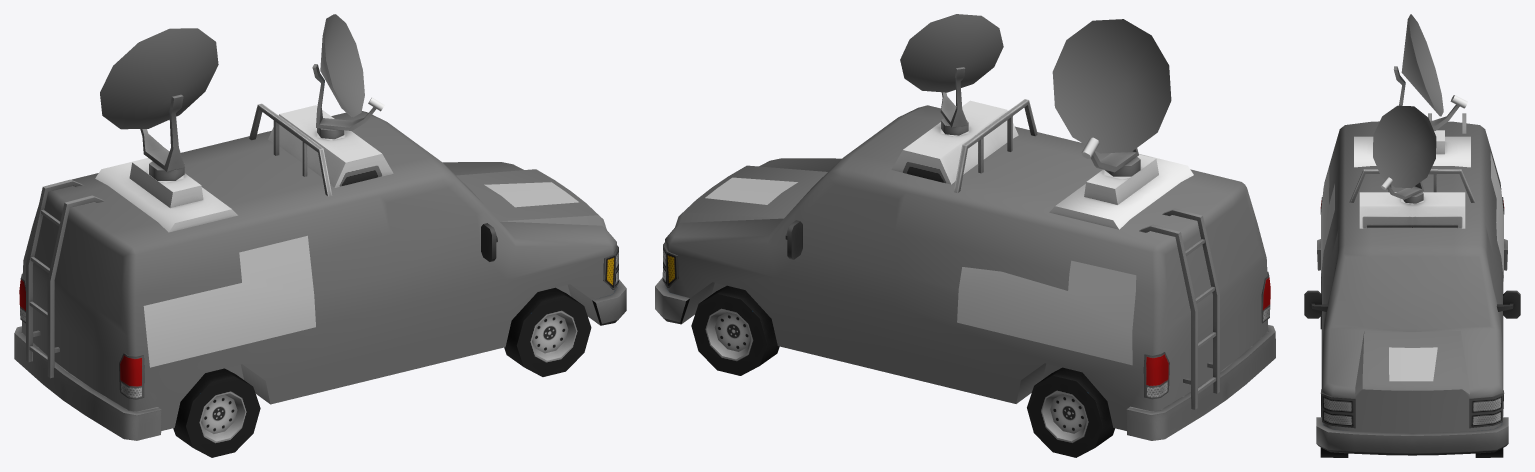
Rendered from Van.fbx.
3 renders of one model, left to right at view 1: azimuth 30°, elevation 25°; view 2: azimuth 150°, elevation 25°; view 3: azimuth 270°, elevation 25°, orthographic. The views are drawn at different scales.
Parts seen in each view (by area): view 1: NewsVan_body, NewsVan_dishes, NewsVan_text, NewsVan_wheel_BR, NewsVan_wheel_FR; view 2: NewsVan_body, NewsVan_dishes, NewsVan_text, NewsVan_wheel_BL, NewsVan_wheel_FL; view 3: NewsVan_body, NewsVan_dishes, NewsVan_text.
Part boxes in pixels (x1=…): NewsVan_body: x1=14, y1=103, x2=626, y2=440; NewsVan_dishes: x1=26, y1=14, x2=384, y2=378; NewsVan_text: x1=143, y1=182, x2=578, y2=367; NewsVan_wheel_BR: x1=173, y1=368, x2=260, y2=457; NewsVan_wheel_FR: x1=504, y1=287, x2=591, y2=376; NewsVan_body: x1=655, y1=99, x2=1275, y2=440; NewsVan_dishes: x1=900, y1=14, x2=1219, y2=409; NewsVan_text: x1=705, y1=177, x2=1136, y2=365; NewsVan_wheel_BL: x1=1027, y1=367, x2=1114, y2=457; NewsVan_wheel_FL: x1=691, y1=285, x2=779, y2=375; NewsVan_body: x1=1304, y1=121, x2=1520, y2=455; NewsVan_dishes: x1=1373, y1=14, x2=1467, y2=203; NewsVan_text: x1=1321, y1=152, x2=1503, y2=381.
Bounding box in the file's own units: 2684 × 1892 × 1210.
